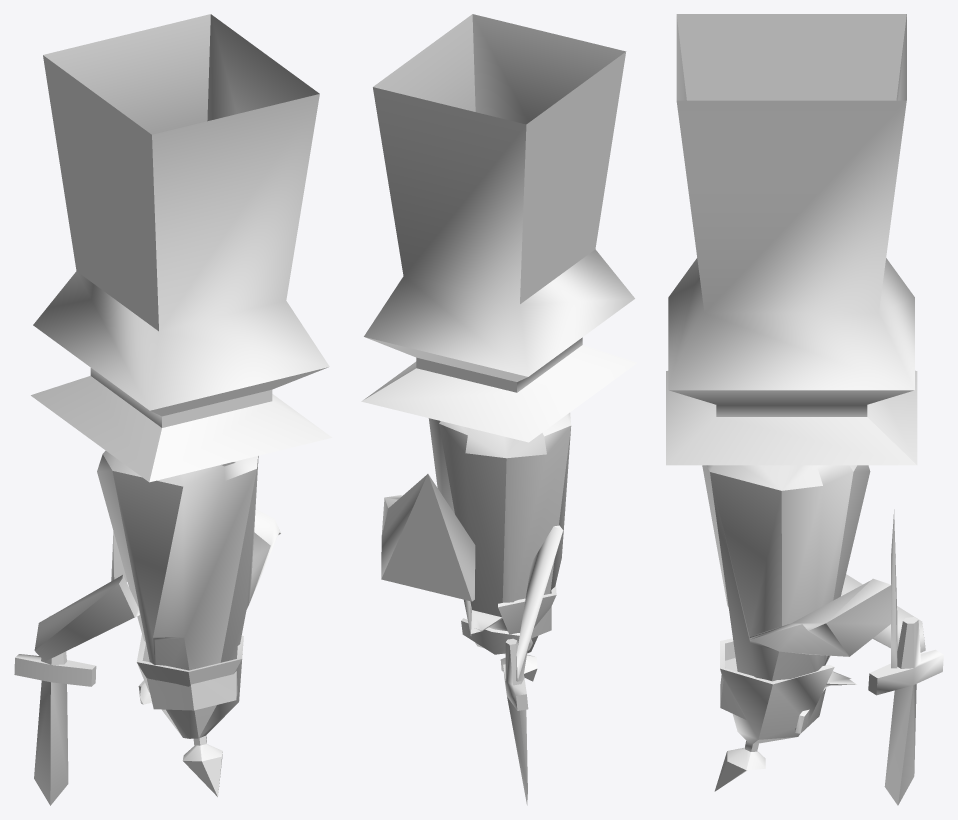
Rendered from estatua2_01.obj.
The picture shows the model from 3 angles, left to right: view 1: azimuth 30°, elevation 25°; view 2: azimuth 150°, elevation 25°; view 3: azimuth 270°, elevation 25°; orthographic projection. The views are drawn at different scales.
Visible parts, largest first — view 1: Sphere_Sphere; view 2: Sphere_Sphere; view 3: Sphere_Sphere.
Boxes of the visible parts, x1,y1,x2,y2 form: Sphere_Sphere: (14,14,331,805); Sphere_Sphere: (361,14,637,805); Sphere_Sphere: (666,14,943,805).
Size of the model in its own units: 29.09 by 99.72 by 31.77.
